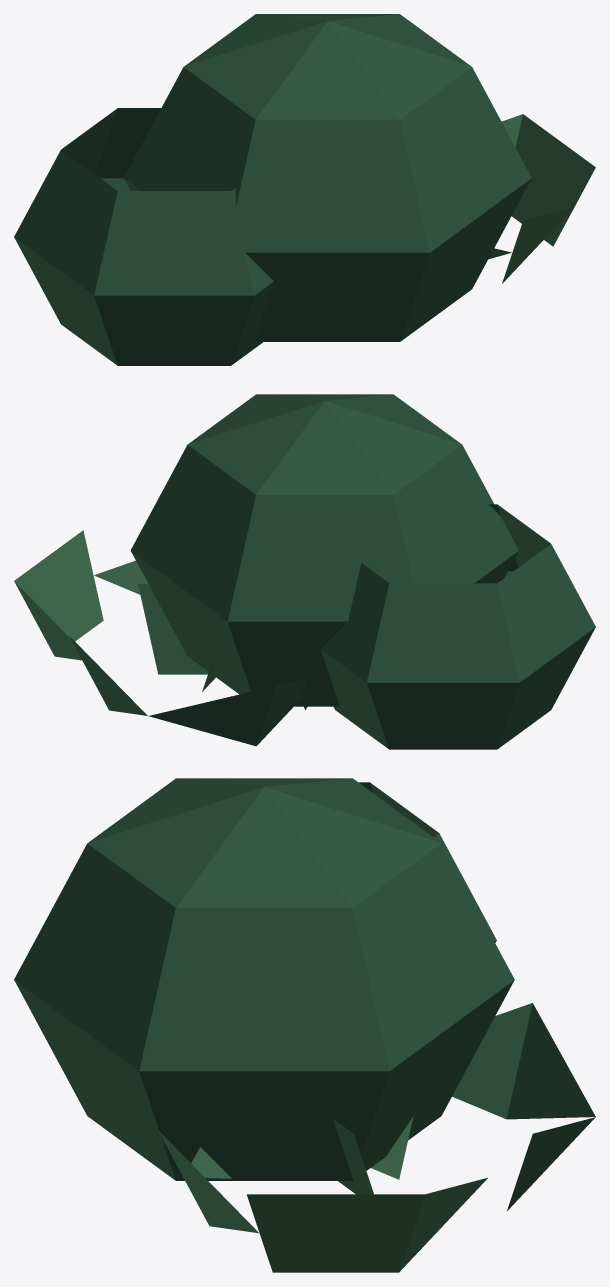
File: nature_bush_a_lod1.glb
The picture shows the model from 3 angles, top to bottom: view 1: azimuth 30°, elevation 25°; view 2: azimuth 150°, elevation 25°; view 3: azimuth 270°, elevation 25°; orthographic projection. The views are drawn at different scales.
Parts seen in each view (by area): view 1: nature_bush_a_lod1; view 2: nature_bush_a_lod1; view 3: nature_bush_a_lod1.
Part boxes in pixels (<box>): nature_bush_a_lod1: <box>14,14,595,365</box>; nature_bush_a_lod1: <box>14,394,595,749</box>; nature_bush_a_lod1: <box>14,778,595,1272</box>.
Bounding box in the file's own units: 2.06 × 1.19 × 1.63.
